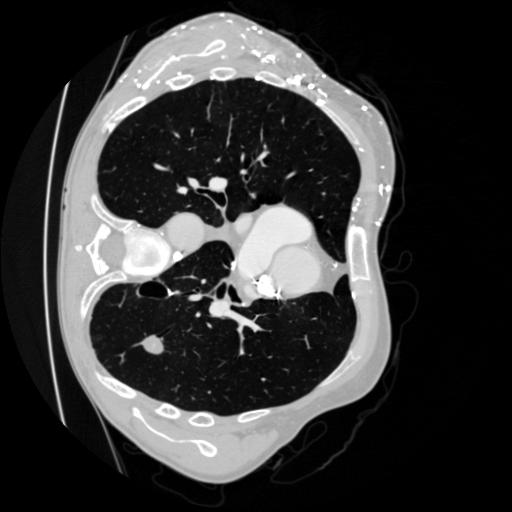nodule: (142, 335, 167, 360)
